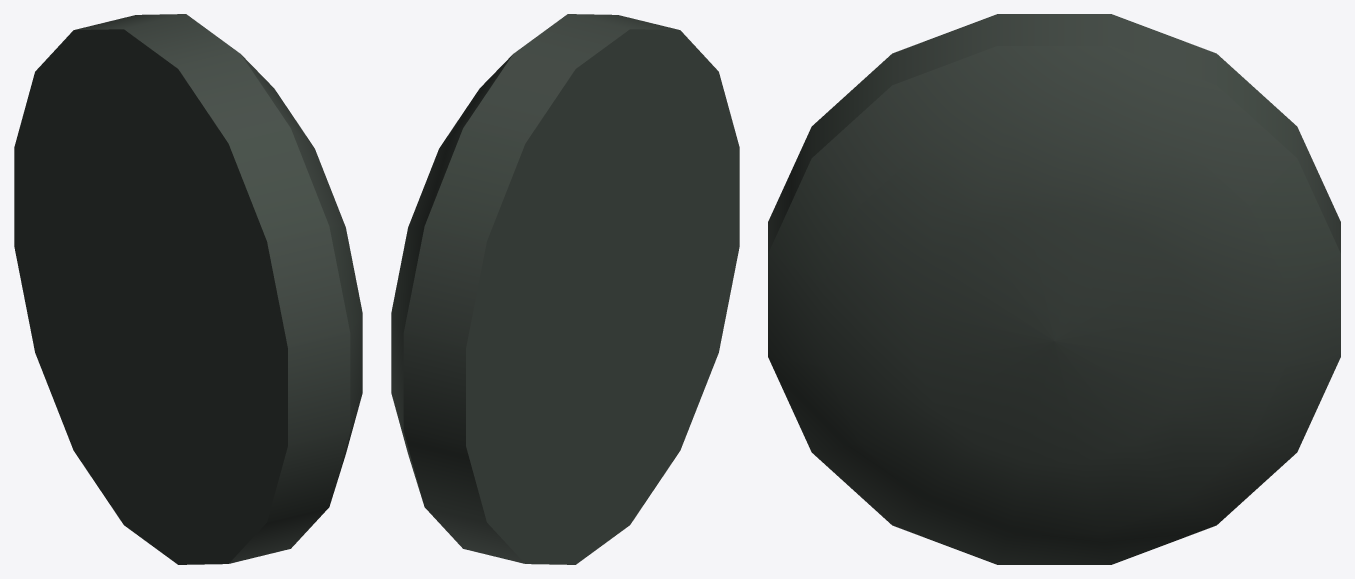
File: lamp_off.obj
3 renders of one model, left to right at view 1: azimuth 30°, elevation 25°; view 2: azimuth 150°, elevation 25°; view 3: azimuth 270°, elevation 25°, orthographic. The views are drawn at different scales.
Visible parts, largest first — view 1: lamp_off_lens; view 2: lamp_off_lens; view 3: lamp_off_lens.
Part boxes in pixels (left/top/right/bottom): lamp_off_lens: left=14, top=14, right=362, bottom=564; lamp_off_lens: left=391, top=14, right=739, bottom=564; lamp_off_lens: left=768, top=14, right=1340, bottom=564.
Size of the model in its own units: 0.0212 by 0.076 by 0.076.
